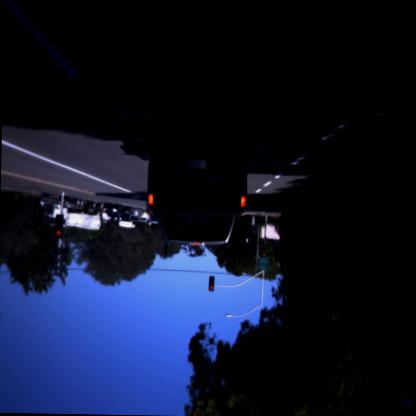trafficlight: (54, 209, 65, 241), (259, 238, 270, 262), (208, 272, 215, 296)
